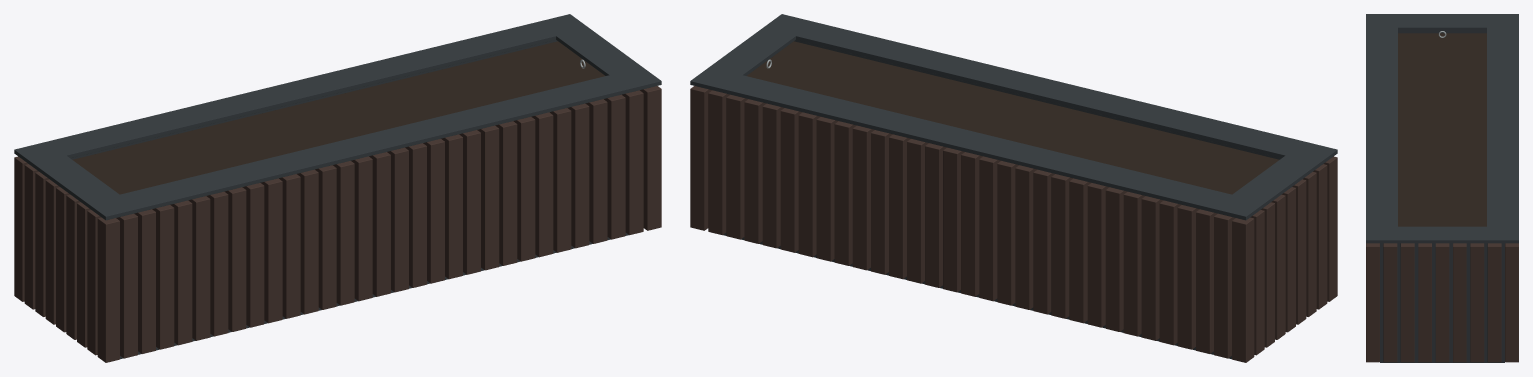
3 views of the same model, side by side, from view 1: azimuth 30°, elevation 25°; view 2: azimuth 150°, elevation 25°; view 3: azimuth 270°, elevation 25° (orthographic). The views are drawn at different scales.
Visible parts, largest first — view 1: K1_R1500; view 2: K1_R1500; view 3: K1_R1500.
Boxes of the visible parts, box(x1,y1,x2,y2) form: K1_R1500: box(14, 14, 661, 362); K1_R1500: box(690, 14, 1337, 362); K1_R1500: box(1366, 14, 1518, 362).
Size of the model in its own units: 1.51 by 0.4101 by 0.4311.
